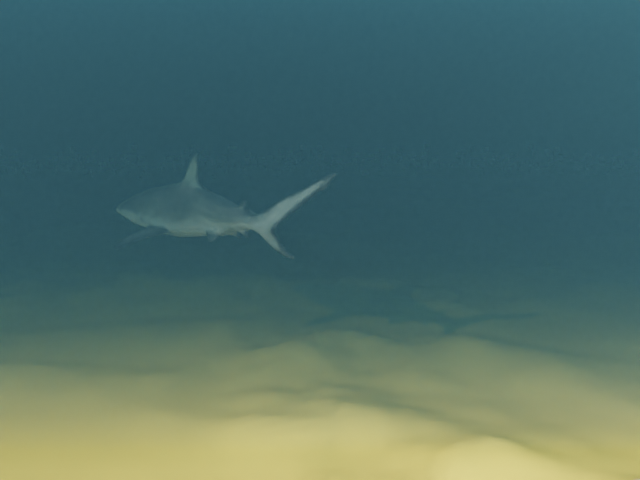Carribean Shark.001: (114, 153, 336, 258)
